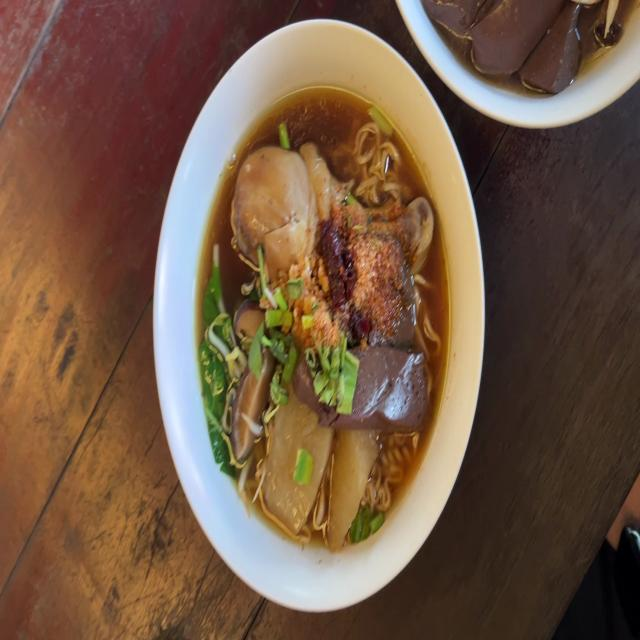noodle: (210, 135, 435, 518)
